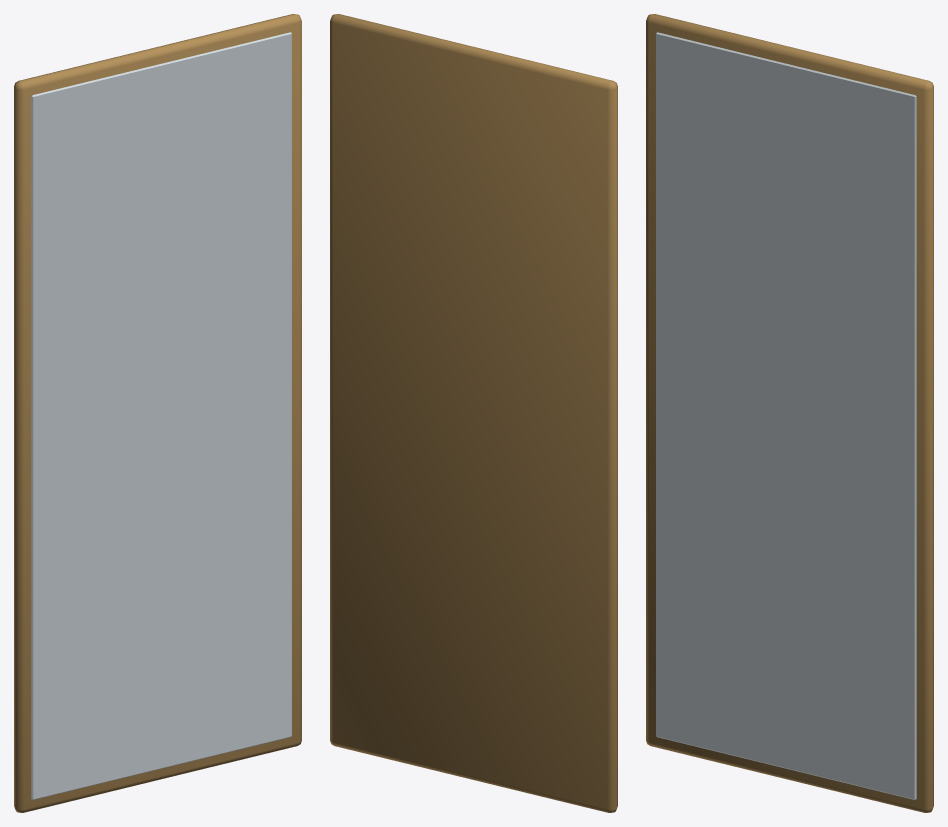
Rendered from i_mirror_4.glb.
The picture shows the model from 3 angles, left to right: view 1: azimuth 30°, elevation 25°; view 2: azimuth 150°, elevation 25°; view 3: azimuth 330°, elevation 25°; orthographic projection.
Parts seen in each view (by area): view 1: o.001, o; view 2: o; view 3: o.001, o.
Boxes of the visible parts, <box> form: o.001: <box>31,32,291,799</box>; o: <box>14,14,301,812</box>; o: <box>330,14,617,812</box>; o.001: <box>656,32,916,799</box>; o: <box>646,14,933,812</box>.
Bounding box in the file's own units: 0.45 × 1.1 × 0.022.
